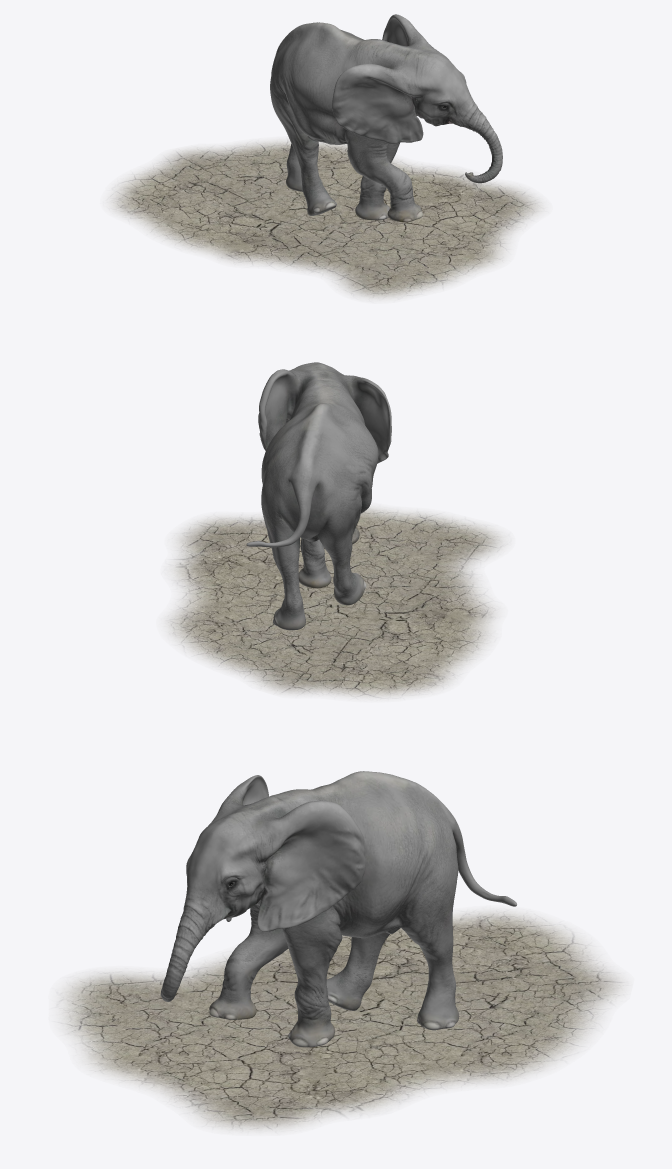
The model's file is 动物_大象大文件.glb.
3 renders of one model, top to bottom at view 1: azimuth 30°, elevation 25°; view 2: azimuth 150°, elevation 25°; view 3: azimuth 270°, elevation 25°, orthographic. The views are drawn at different scales.
Parts seen in each view (by area): view 1: lambert4SG, lambert2SG; view 2: lambert4SG, lambert2SG; view 3: lambert4SG, lambert2SG.
Part boxes in pixels (box(x1,y1,x2,y2)): lambert4SG: box(109, 140, 542, 299); lambert2SG: box(270, 14, 502, 222); lambert4SG: box(166, 506, 504, 697); lambert2SG: box(246, 362, 391, 630); lambert4SG: box(60, 910, 624, 1130); lambert2SG: box(160, 771, 516, 1047).
Bounding box in the file's own units: 1.13 × 0.5 × 1.13.
Materials: 3 (3 with a texture image).
